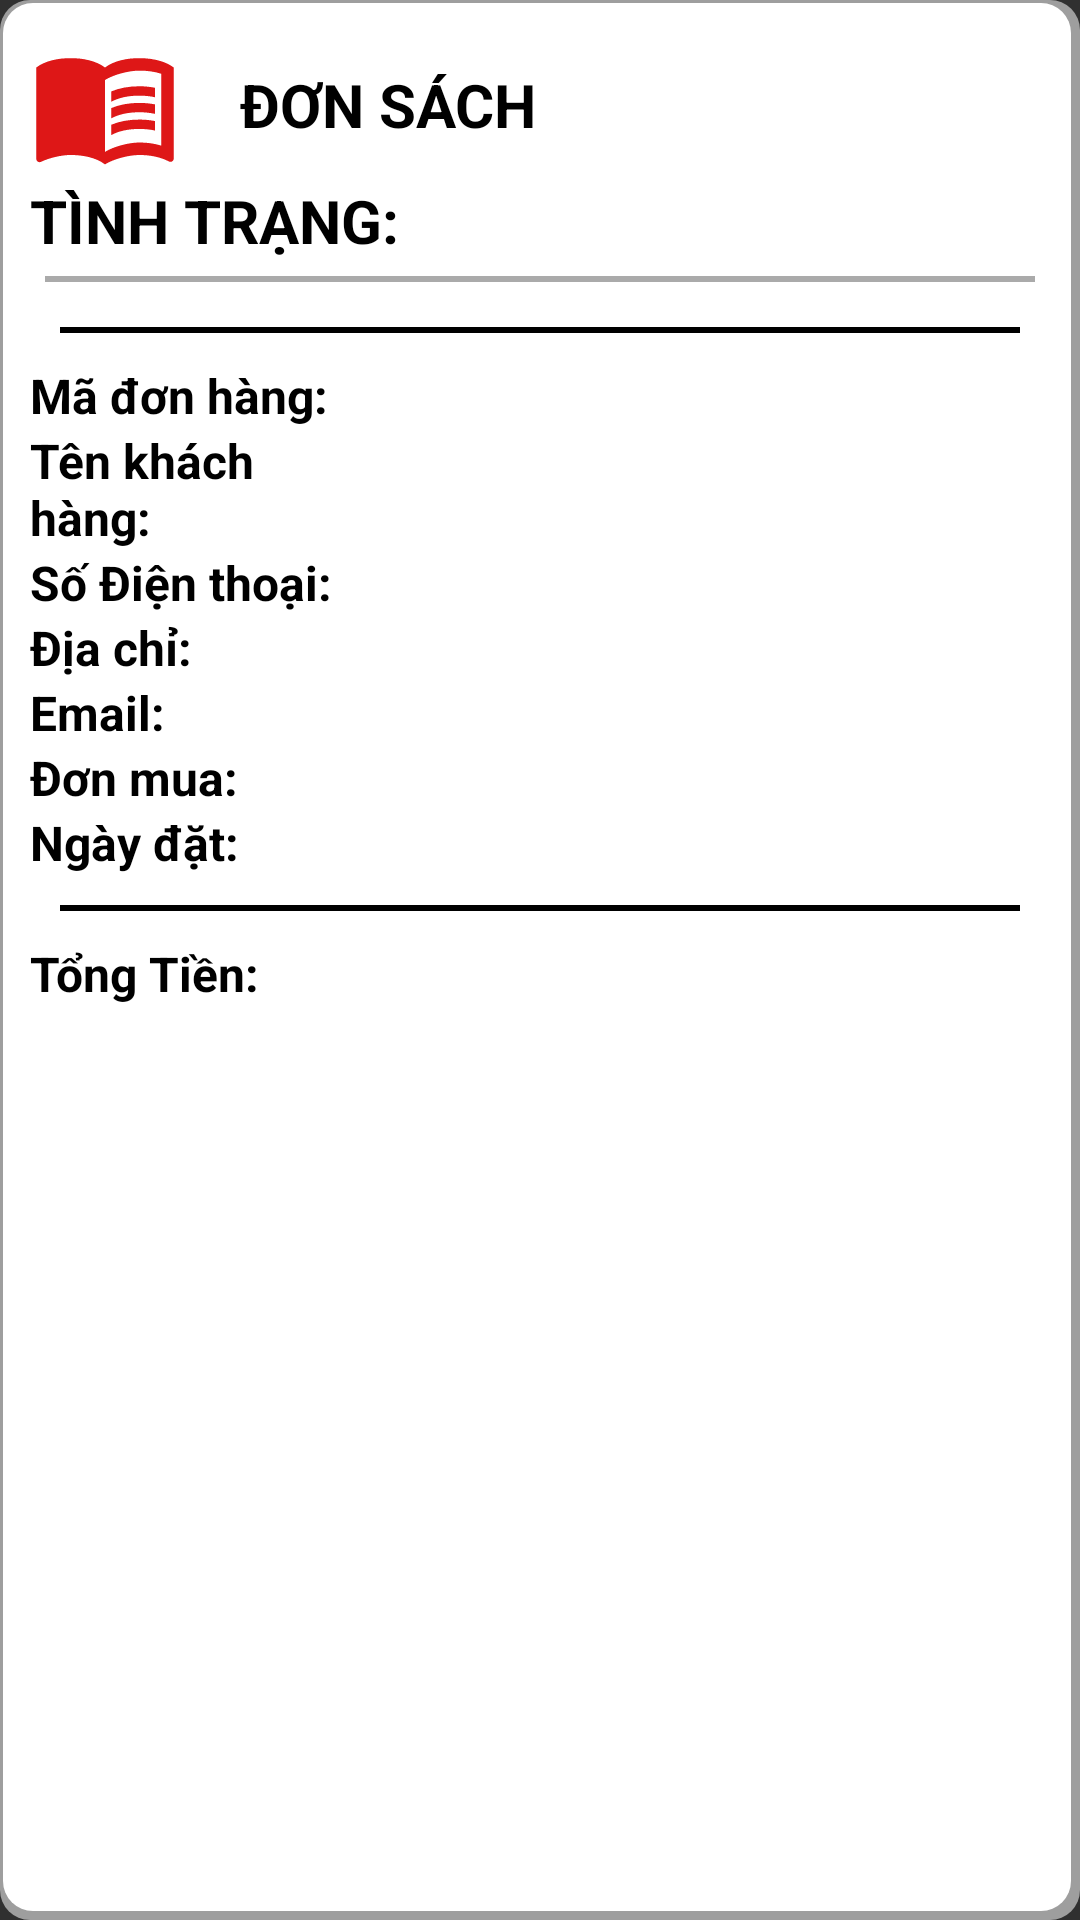

Icon click points for this 1080px×1920px phone screenshot, format (x=x, y=y):
book: (x=105, y=111)
